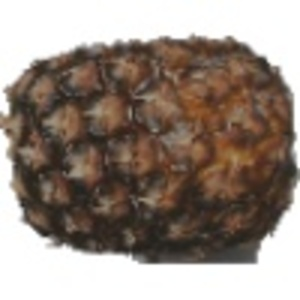abacaxi: (2, 38, 295, 255)
